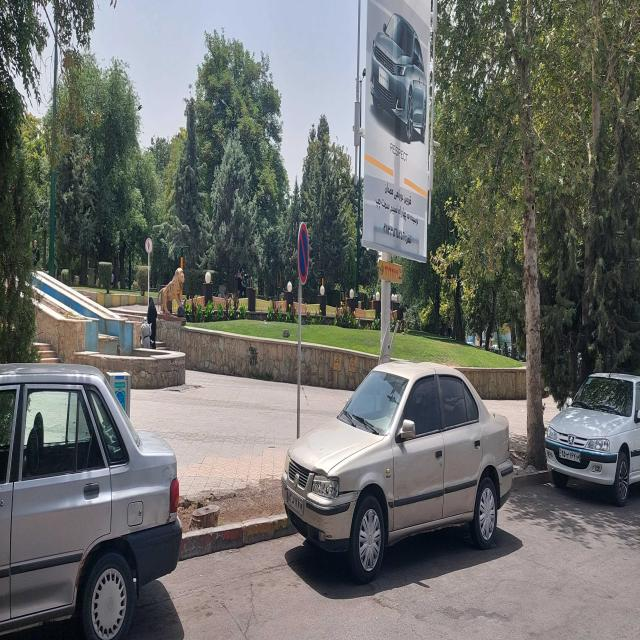forb_stopping: (297, 221, 310, 287)
